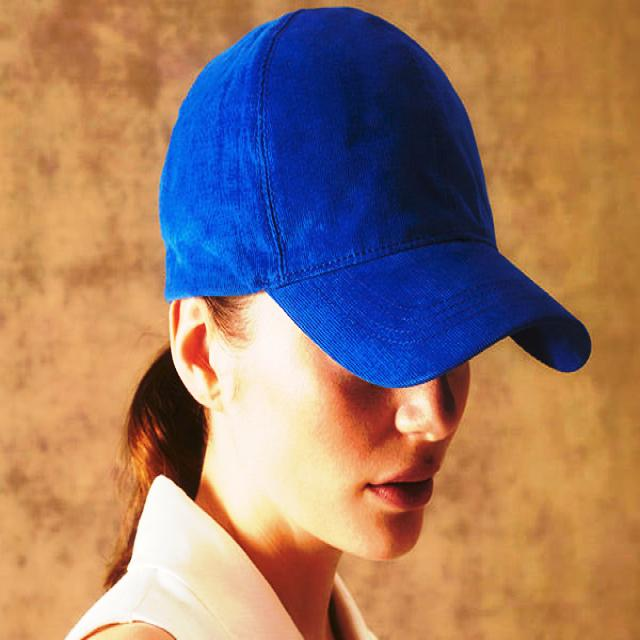TOPI: (156, 7, 595, 388)
